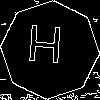H: (25, 25, 64, 73)
